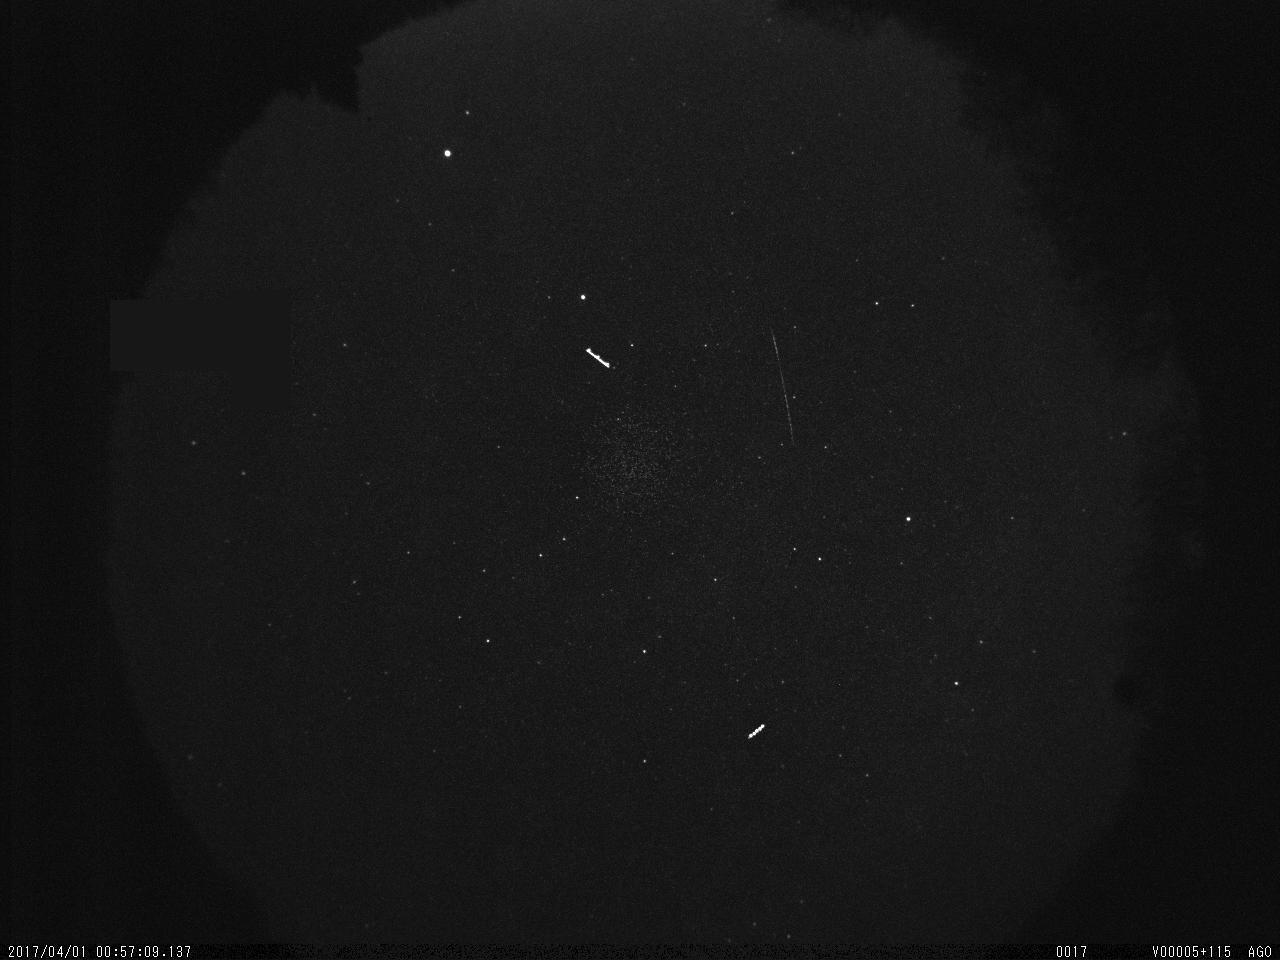meteor: (764, 321, 804, 467)
satelite: (574, 340, 618, 377), (740, 717, 773, 749)
